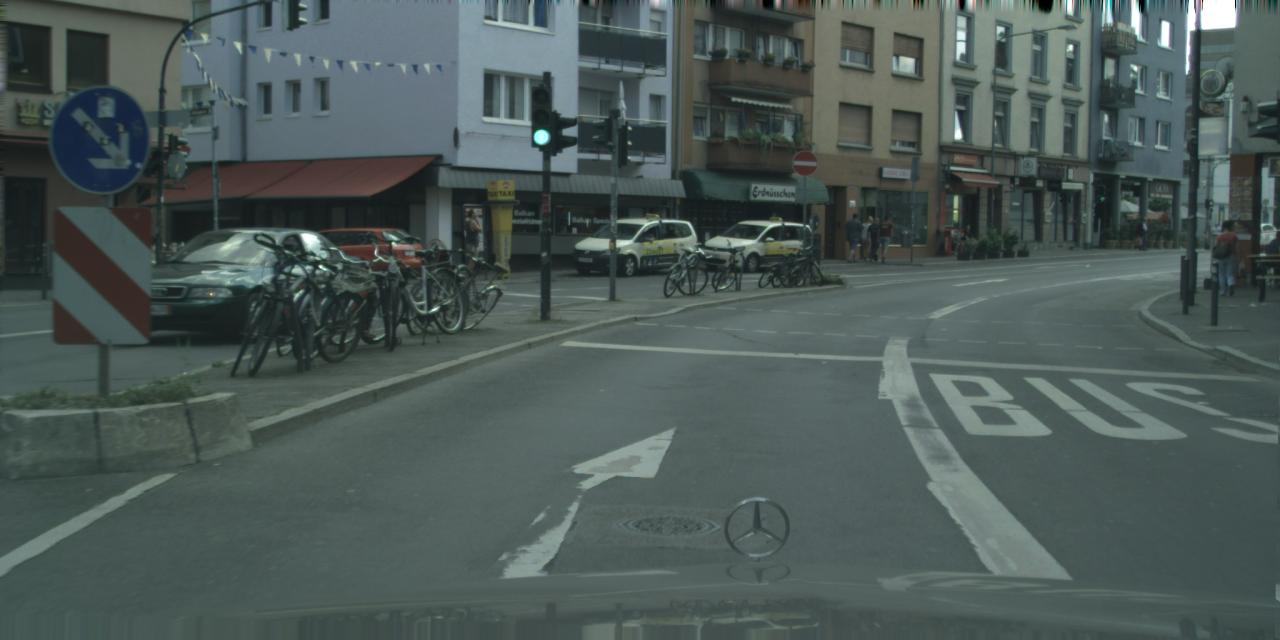ped: (1211, 219, 1241, 294), (456, 208, 485, 278), (844, 212, 864, 264), (858, 214, 876, 260), (876, 216, 894, 262), (866, 217, 883, 258), (1136, 217, 1150, 250), (1211, 223, 1220, 248)
